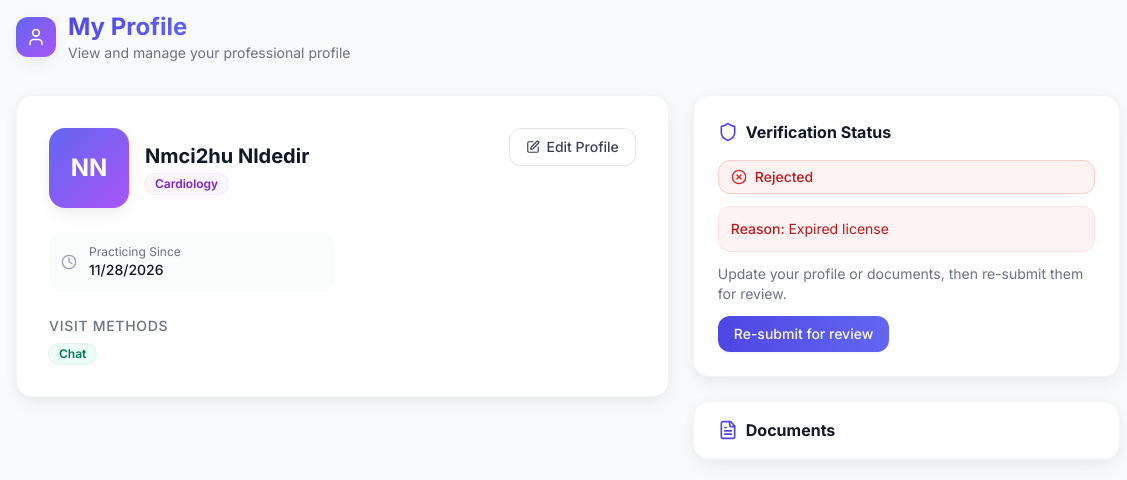
Test case: DoctorProfileEnhancedPage verification status › should re-submit and then show the profile as pending
Click the button "Re-submit for review": (804, 334) [718, 316, 889, 352]
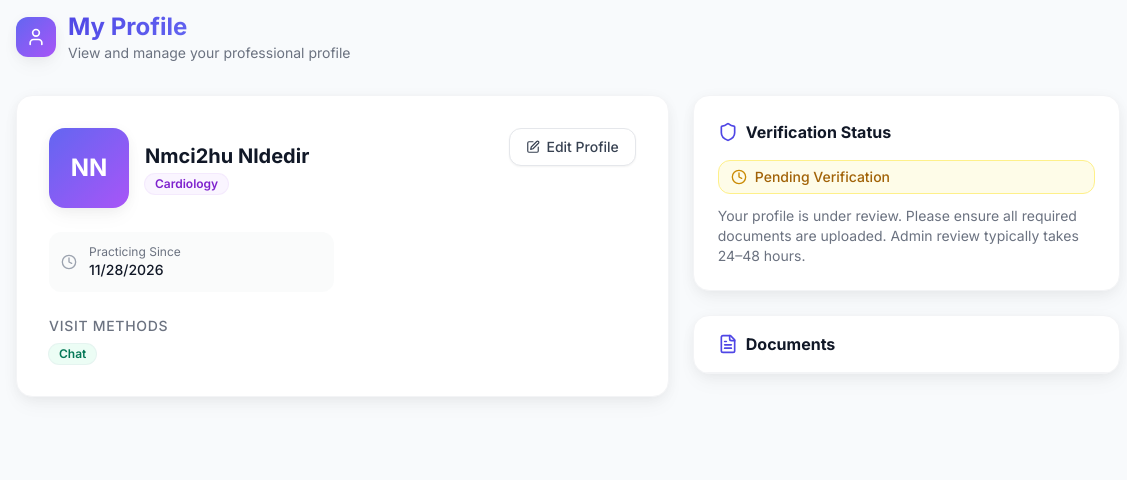
Expected: the text "Pending Verification" is shown, [755, 167, 890, 187]
Expected: the text "Expired license" is gone
Expected: the button "Re-submit for review" is gone
